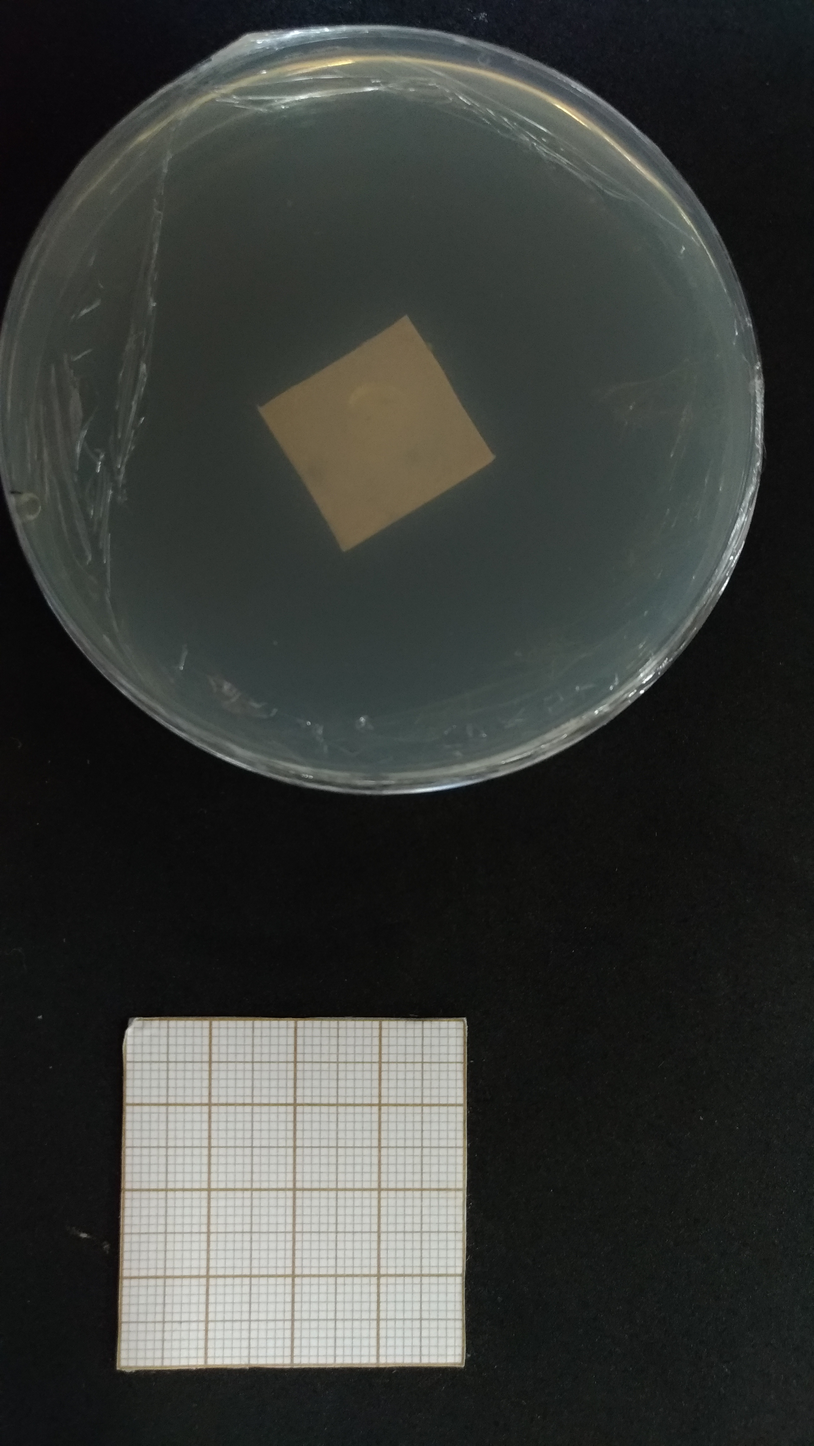escala: (118, 1017, 464, 1368)
fungo: (347, 380, 416, 445)
